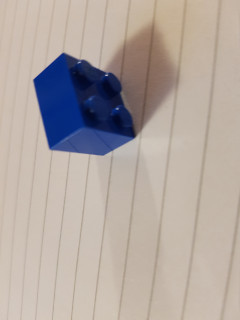2x2 blue: (32, 52, 137, 157)
